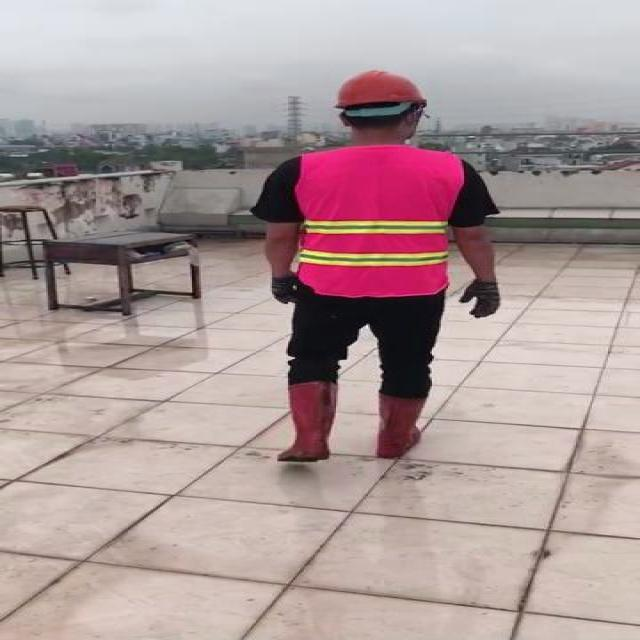boots: (265, 377, 345, 462), (375, 392, 430, 458)
hand_glove: (458, 278, 499, 319), (272, 272, 299, 306)
head_helmet: (335, 68, 429, 108)
person: (246, 64, 511, 470)
vest: (299, 147, 464, 295)
